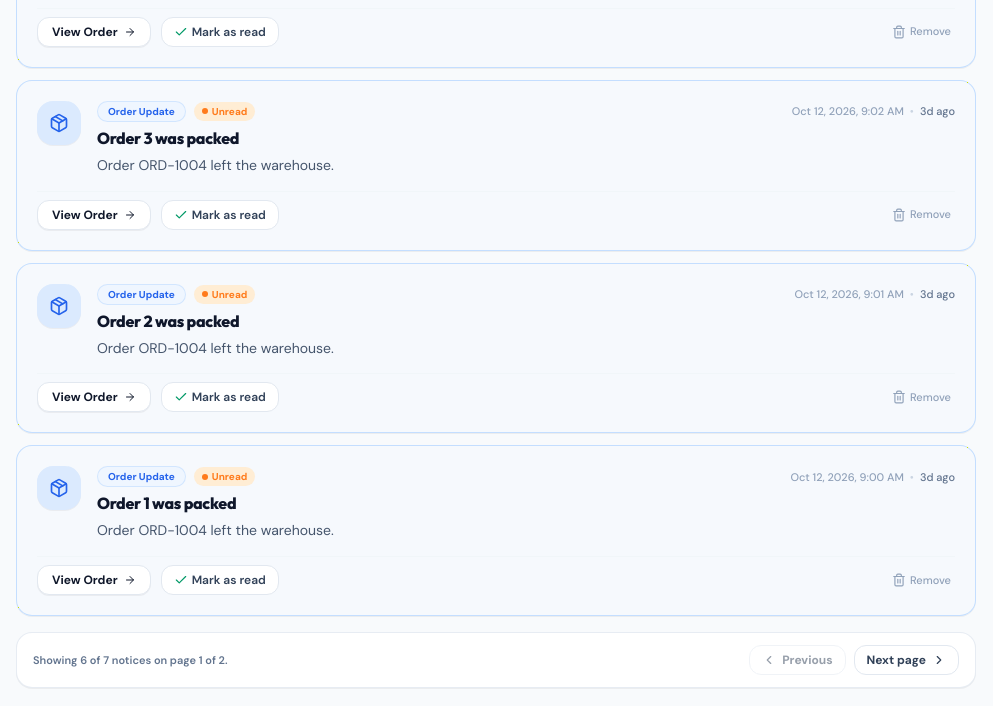
Test case: NotificationsPage › pages through Postgres and quotes the server total, not the rows on screen
(page scrolled)
Expected: the text "Showing 6 of 7 notices on page 1 of 2." is shown, [33,652,228,668]
Expected: the element with test id "notice-page-1-1" is shown, [16,445,976,616]
Click the button with test id "pager-next" at (906,660), box [854,645,959,675]
(page scrolled)
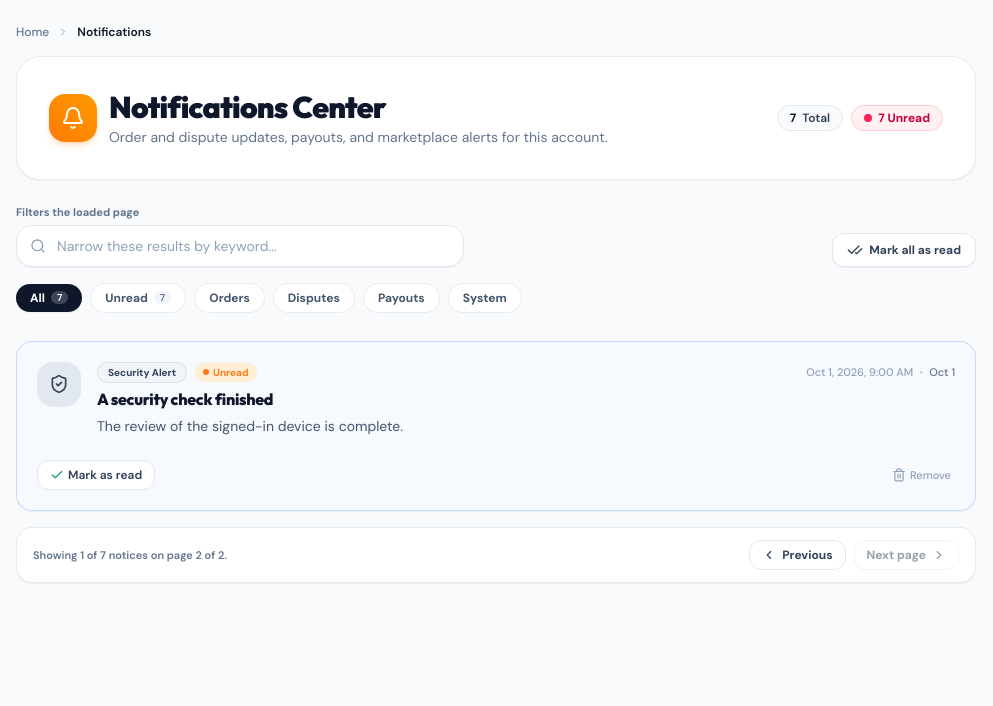
Expected: the heading "A security check finished" is shown, [97,388,273,408]
Expected: the text with test id "pager-summary" shows "Showing 1 of 7 notices", [33,547,227,564]
Expected: the text with test id "pager-summary" shows "page 2 of 2", [33,547,227,564]
Click the button with test id "pager-previous" at (797,555), box [749,540,846,570]
(page scrolled)
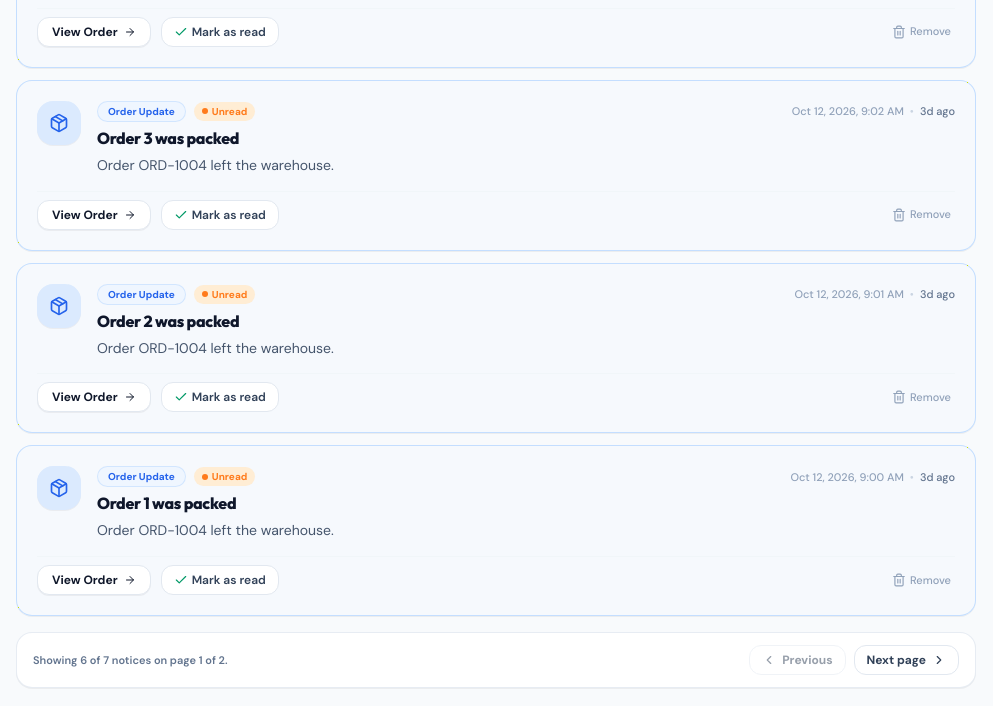
Expected: the element with test id "notice-page-1-1" is shown, [16,445,976,616]
